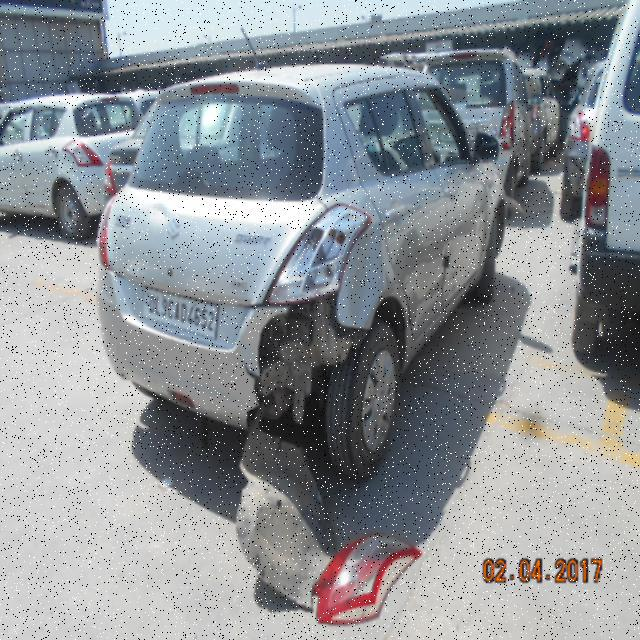rear-bumper-dent: (107, 278, 354, 428)
